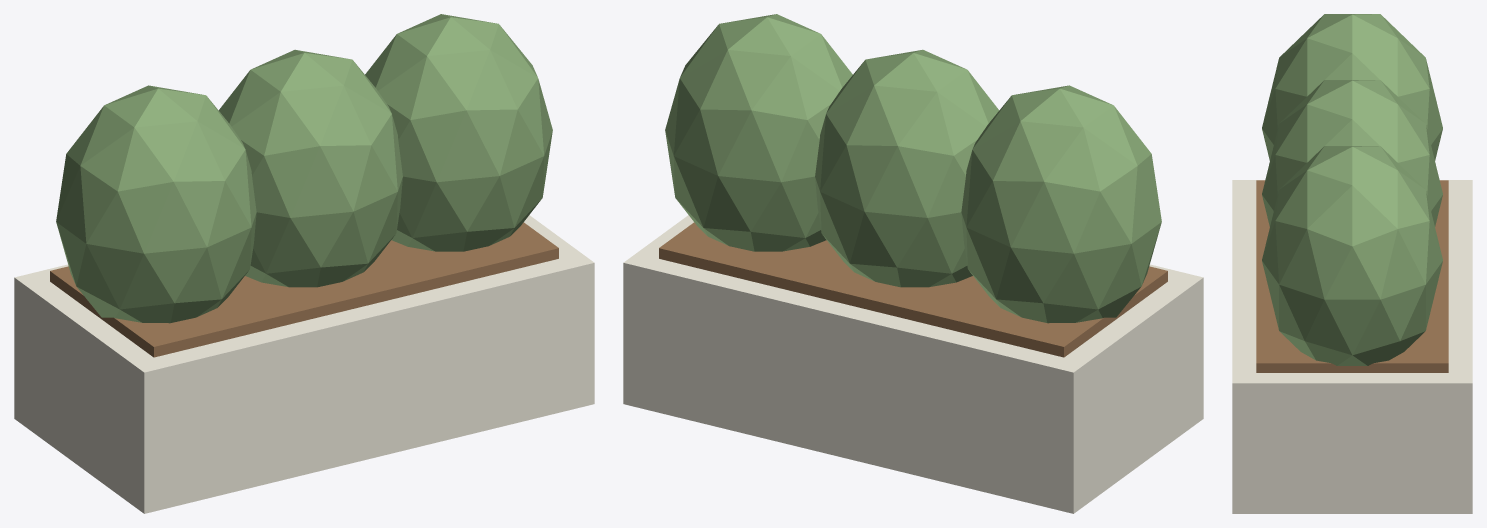
File: planter.glb
The picture shows the model from 3 angles, left to right: view 1: azimuth 30°, elevation 25°; view 2: azimuth 150°, elevation 25°; view 3: azimuth 270°, elevation 25°; orthographic projection. The views are drawn at different scales.
Visible parts, largest first — view 1: Planter, Topiary, Topiary.002, Topiary.001, Soil; view 2: Planter, Topiary, Topiary.002, Topiary.001, Soil; view 3: Planter, Topiary.002, Topiary, Topiary.001, Soil.
Boxes of the visible parts, bbox=[...] form: Planter: bbox=[14, 215, 594, 513]; Topiary: bbox=[56, 85, 256, 323]; Topiary.002: bbox=[365, 14, 552, 251]; Topiary.001: bbox=[219, 49, 402, 287]; Soil: bbox=[50, 222, 558, 357]; Planter: bbox=[623, 215, 1203, 513]; Topiary: bbox=[961, 85, 1161, 323]; Topiary.002: bbox=[665, 14, 852, 251]; Topiary.001: bbox=[815, 49, 998, 287]; Soil: bbox=[659, 222, 1167, 357]; Planter: bbox=[1232, 180, 1472, 513]; Topiary.002: bbox=[1262, 146, 1442, 365]; Topiary: bbox=[1262, 14, 1442, 160]; Topiary.001: bbox=[1262, 80, 1442, 226]; Soil: bbox=[1256, 180, 1448, 372].
Bounding box in the file's own units: 2.07 × 1.52 × 1.
